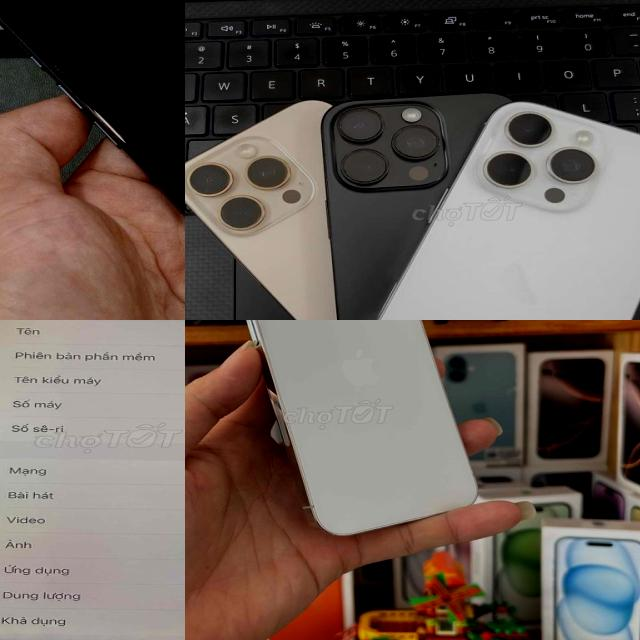gen_12_13: (226, 320, 487, 535)
gen_15: (0, 0, 185, 320)
gen_16: (337, 99, 640, 320)
gen_7_8: (0, 320, 185, 640)
